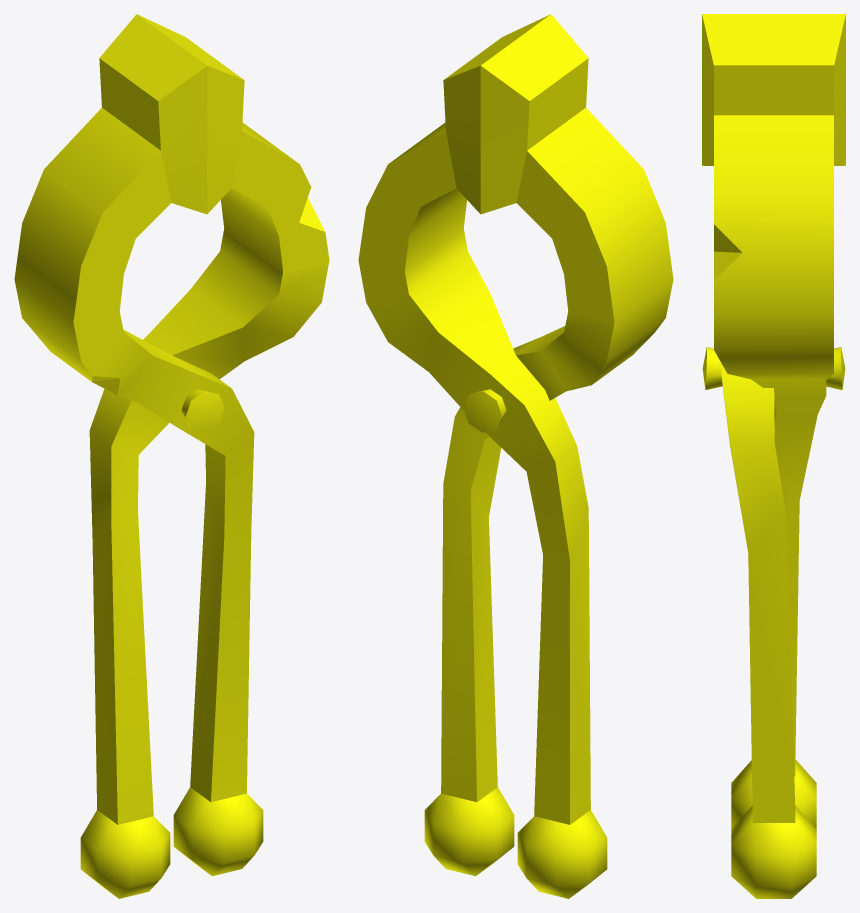
Rendered from kaykit-tongs.glb.
3 views of the same model, side by side, from view 1: azimuth 30°, elevation 25°; view 2: azimuth 150°, elevation 25°; view 3: azimuth 270°, elevation 25° (orthographic).
Visible parts, largest first — view 1: tongs; view 2: tongs; view 3: tongs.
Boxes of the visible parts, bbox=[...] form: tongs: bbox=[14, 14, 329, 898]; tongs: bbox=[358, 14, 673, 898]; tongs: bbox=[702, 14, 845, 898].
Bounding box in the file's own units: 0.4114 × 1.29 × 0.1963.
